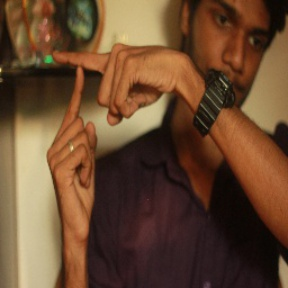T: (39, 38, 121, 149)
